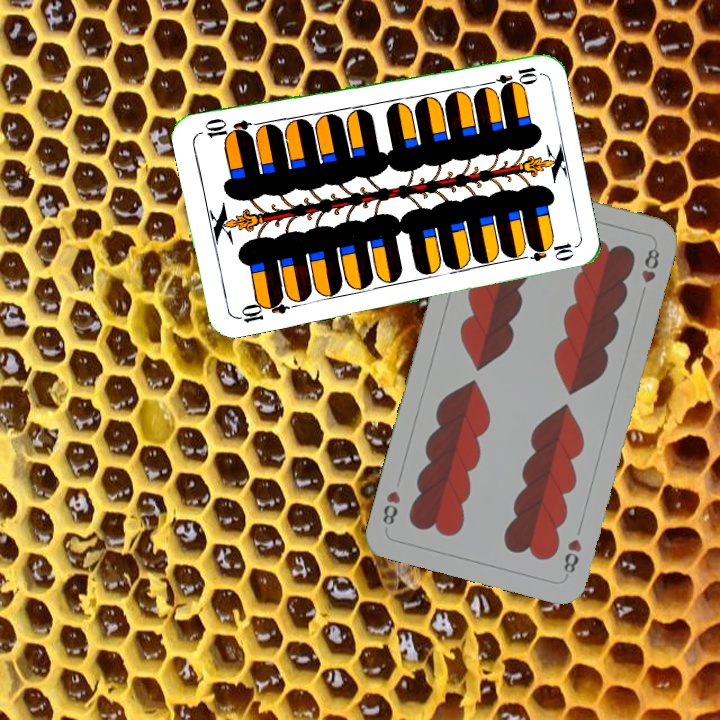E10: (232, 292, 290, 325), (481, 62, 540, 90)
H8: (559, 534, 585, 580)
